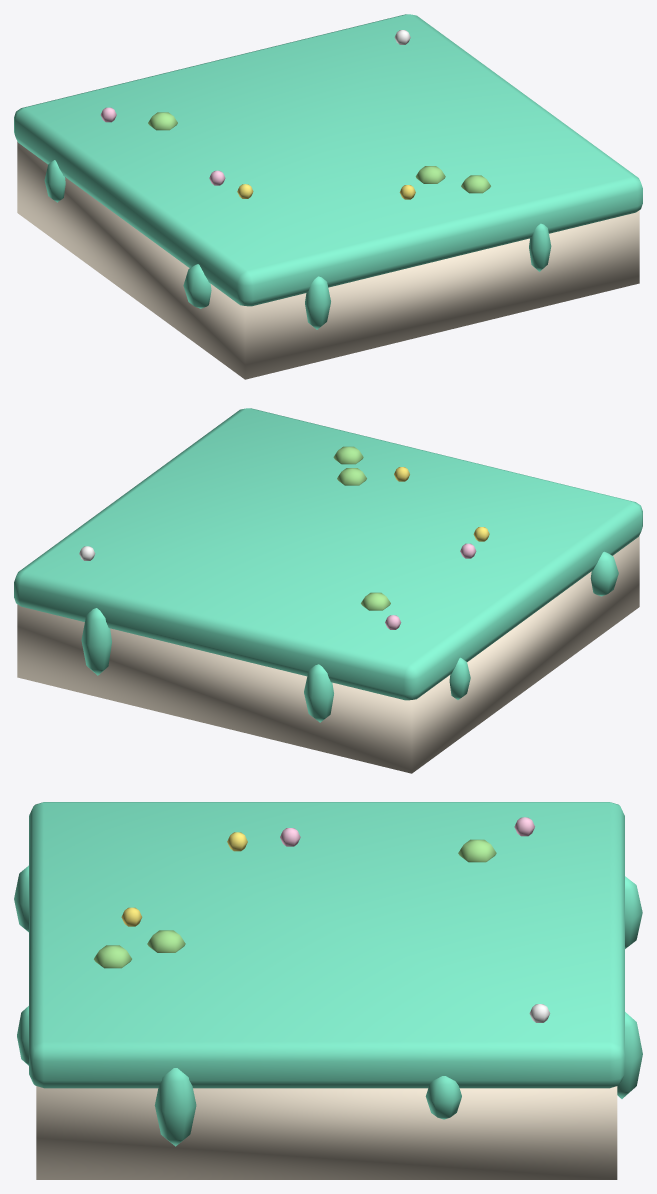
The model's file is bg_tile_mint.glb.
3 views of the same model, one above another, from view 1: azimuth 30°, elevation 25°; view 2: azimuth 150°, elevation 25°; view 3: azimuth 270°, elevation 25° (orthographic). The views are drawn at different scales.
Parts seen in each view (by area): view 1: M_Tile_mint__t_top_mint, M_Tile_mint__t_side_mint, M_Tile_mint__tuft; view 2: M_Tile_mint__t_top_mint, M_Tile_mint__t_side_mint, M_Tile_mint__tuft; view 3: M_Tile_mint__t_top_mint, M_Tile_mint__t_side_mint, M_Tile_mint__tuft, M_Tile_mint__fl1, M_Tile_mint__fl0.
Part boxes in pixels (x1=…): M_Tile_mint__t_top_mint: x1=14, y1=14, x2=642, y2=329; M_Tile_mint__t_side_mint: x1=17, y1=141, x2=639, y2=379; M_Tile_mint__tuft: x1=148, y1=112, x2=490, y2=193; M_Tile_mint__t_top_mint: x1=14, y1=408, x2=642, y2=722; M_Tile_mint__t_side_mint: x1=17, y1=535, x2=639, y2=773; M_Tile_mint__tuft: x1=333, y1=446, x2=390, y2=610; M_Tile_mint__t_top_mint: x1=14, y1=802, x2=642, y2=1146; M_Tile_mint__t_side_mint: x1=36, y1=1086, x2=617, y2=1179; M_Tile_mint__tuft: x1=94, y1=839, x2=496, y2=968; M_Tile_mint__fl1: x1=121, y1=832, x2=247, y2=926; M_Tile_mint__fl0: x1=280, y1=817, x2=534, y2=846.
Bounding box in the file's own units: 4.21 × 1.12 × 4.22.
